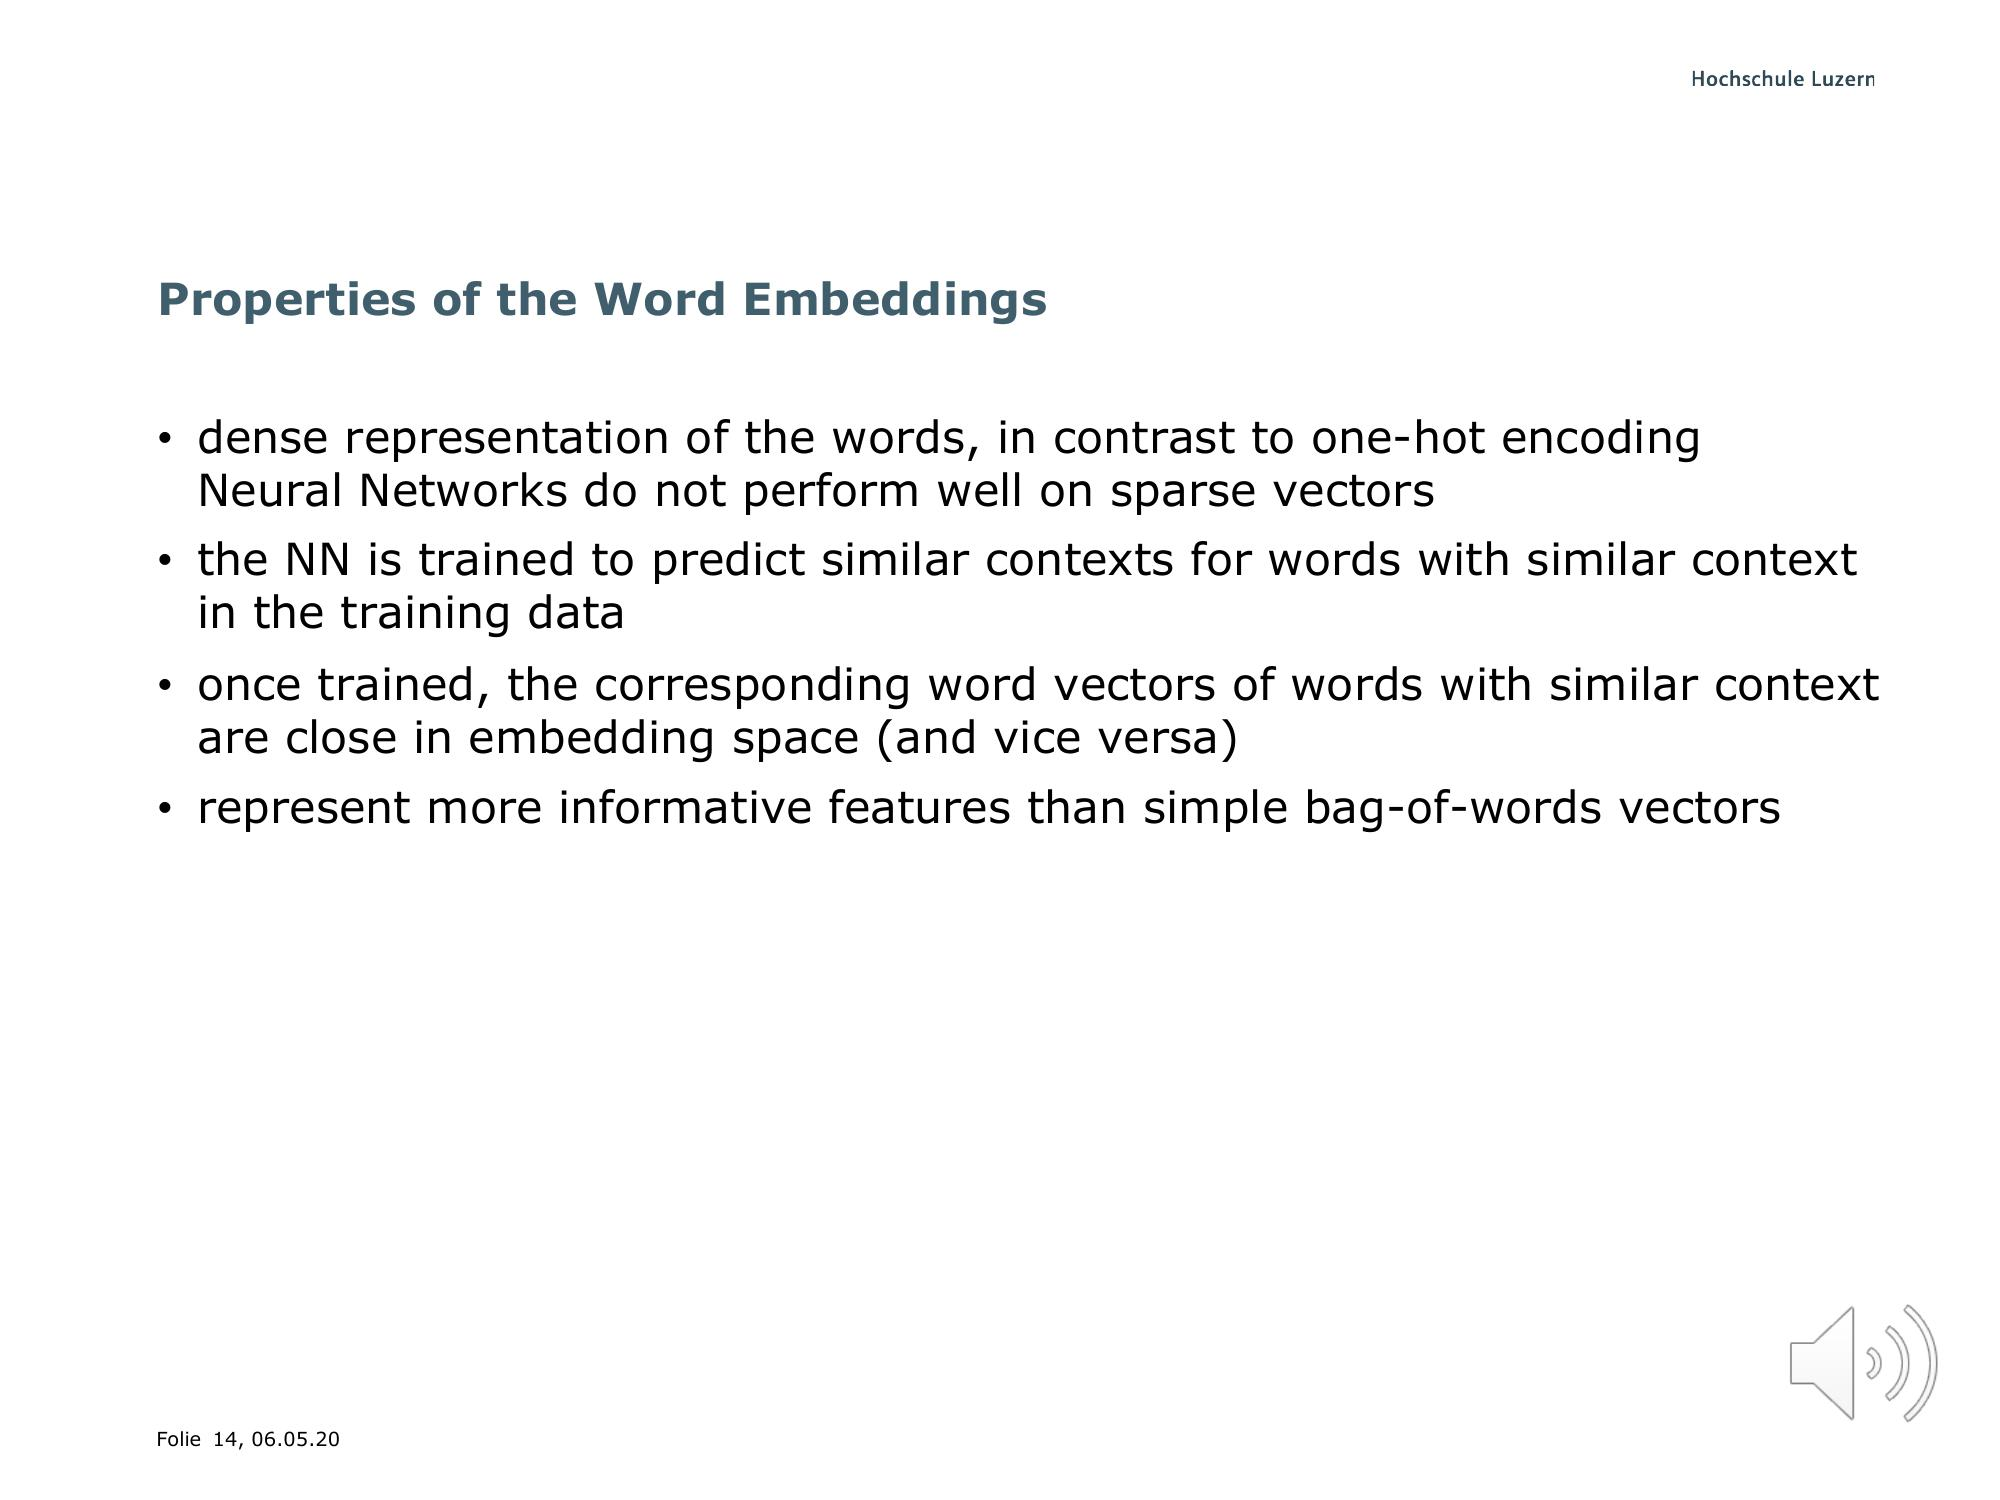Title: (132, 262, 1065, 342)
